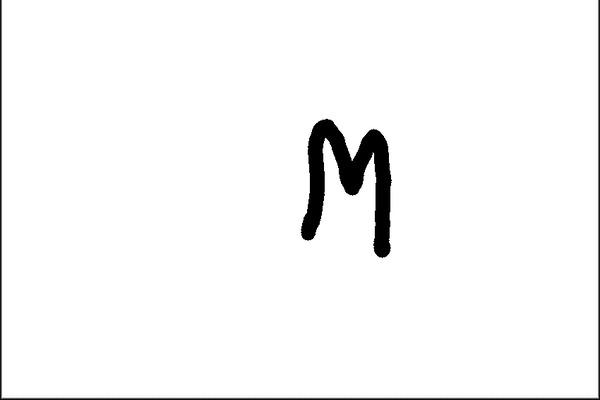M: (293, 112, 394, 259)
